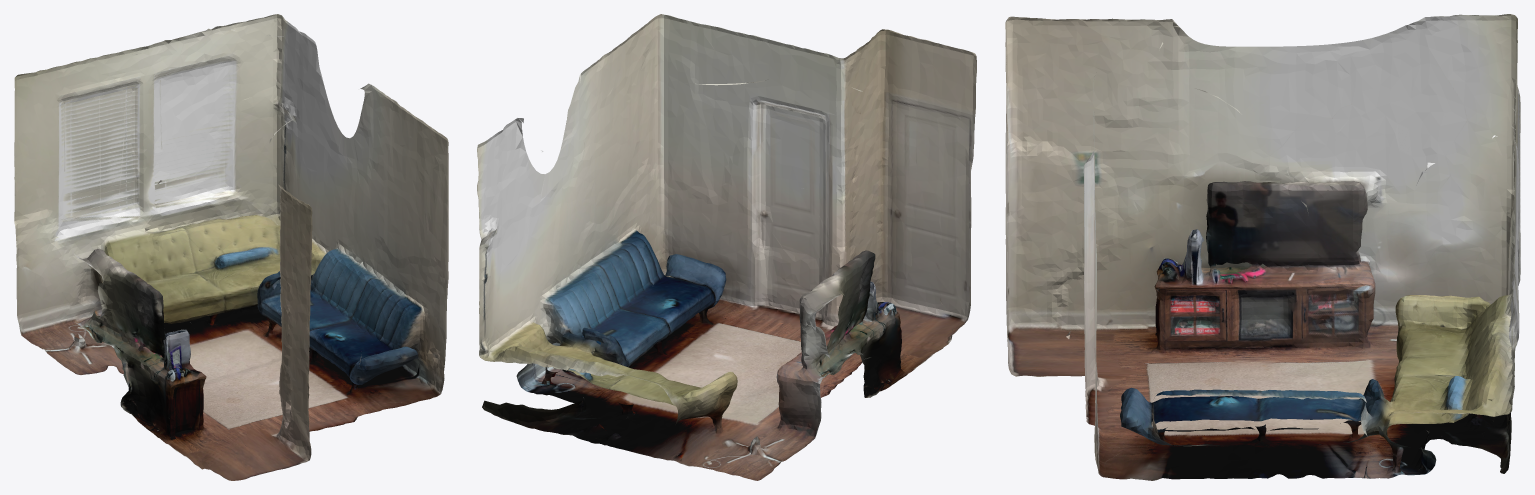
3 views of the same model, side by side, from view 1: azimuth 30°, elevation 25°; view 2: azimuth 150°, elevation 25°; view 3: azimuth 270°, elevation 25° (orthographic). The views are drawn at different scales.
Size of the model in its own units: 3.01 by 2.8 by 4.12.
2 materials, 2 textured.
